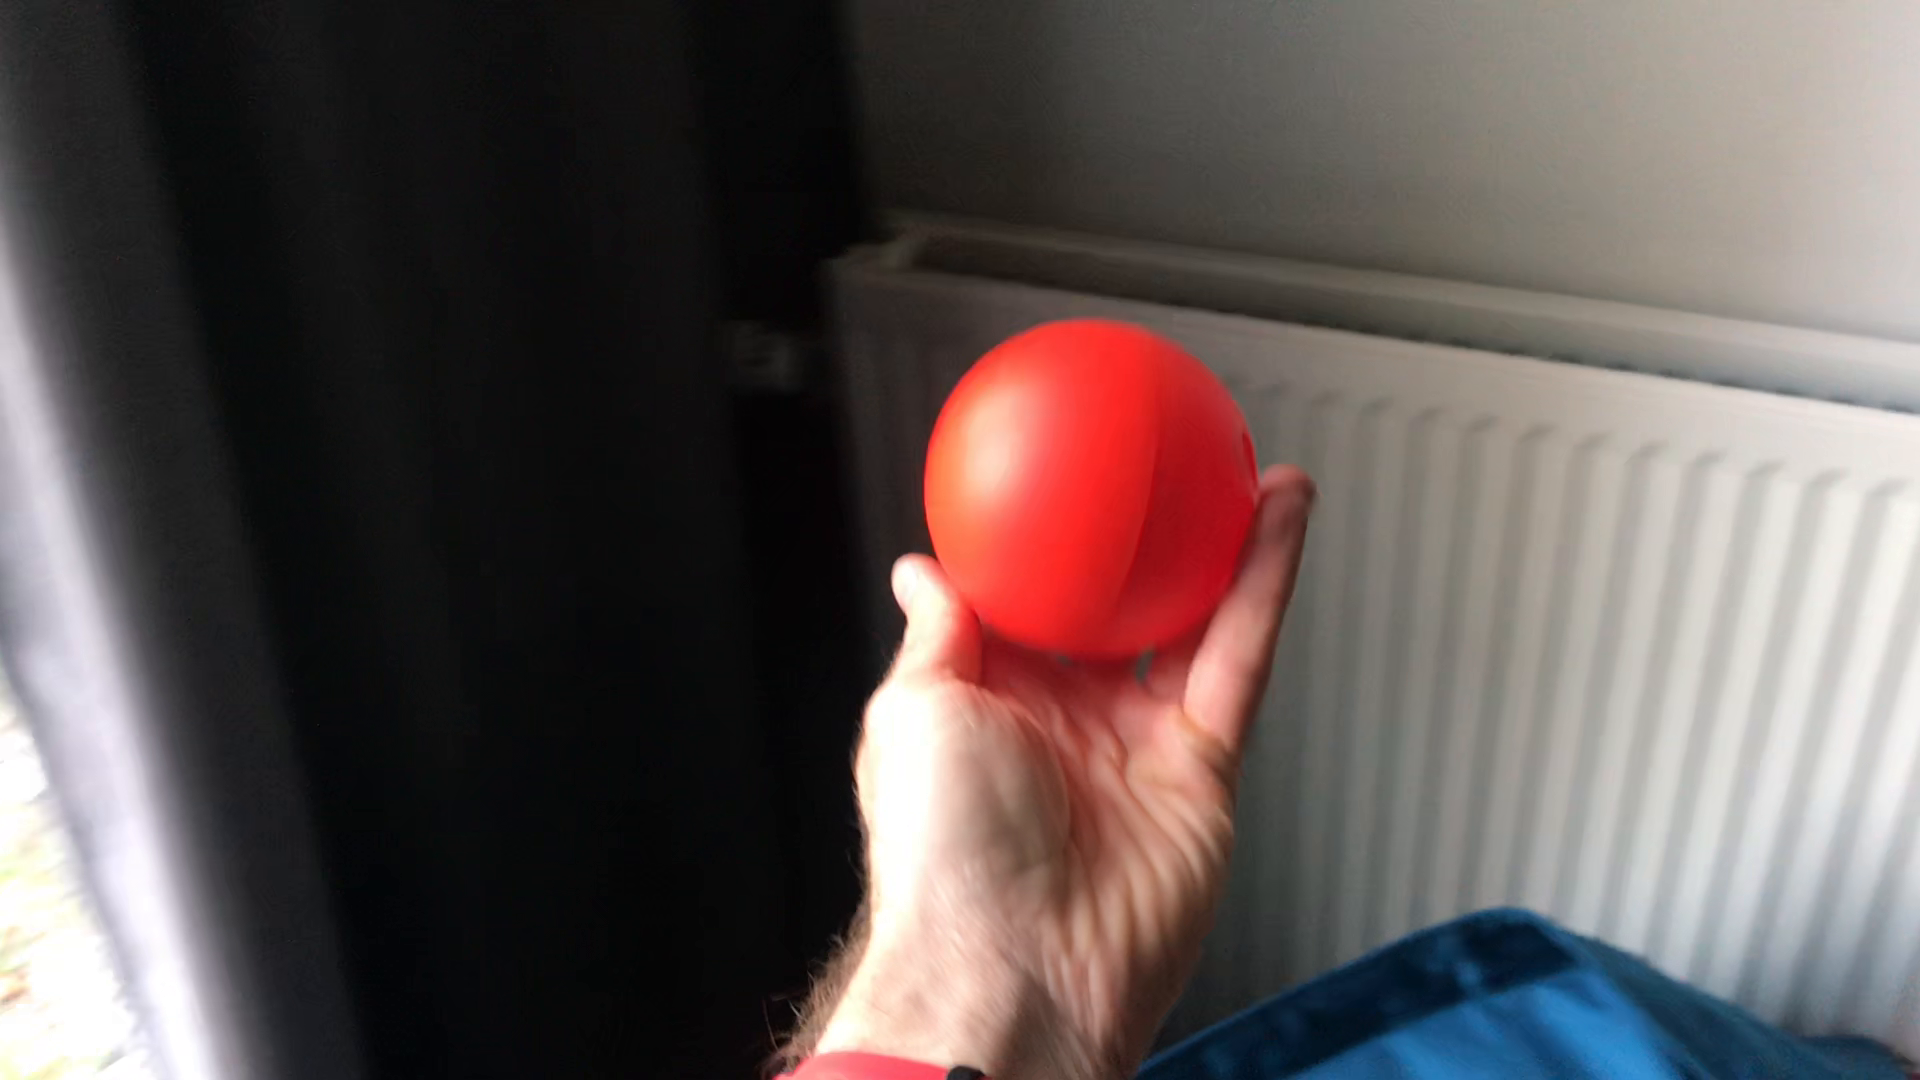Ball: (927, 316, 1265, 663)
